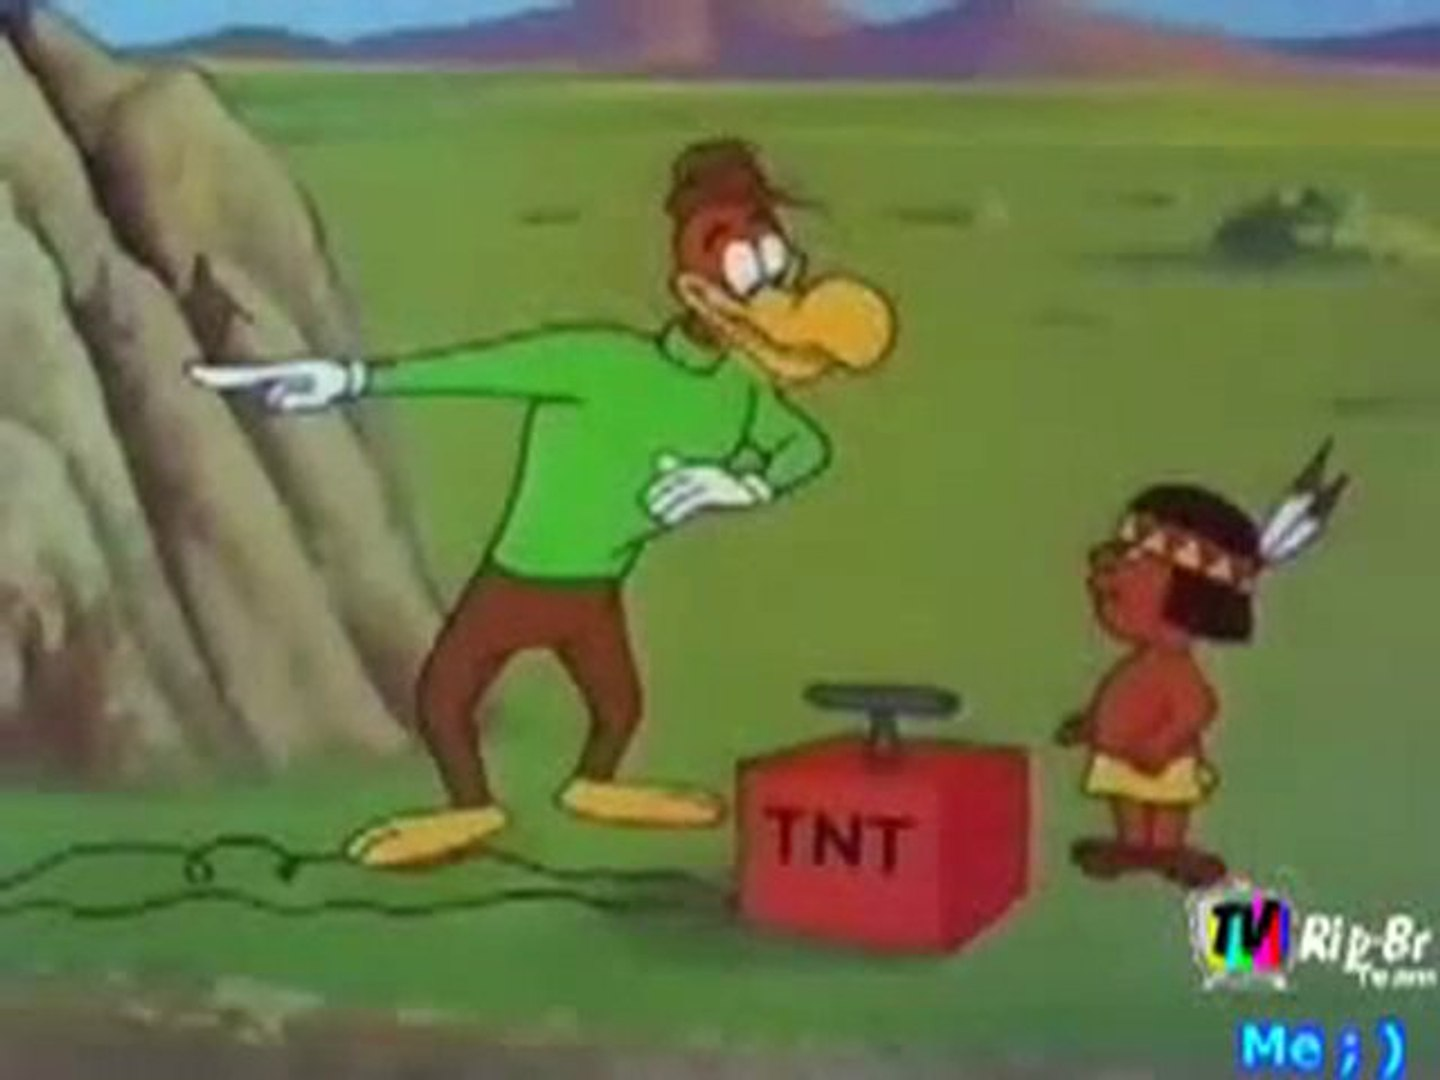urubu: (156, 100, 904, 930)
